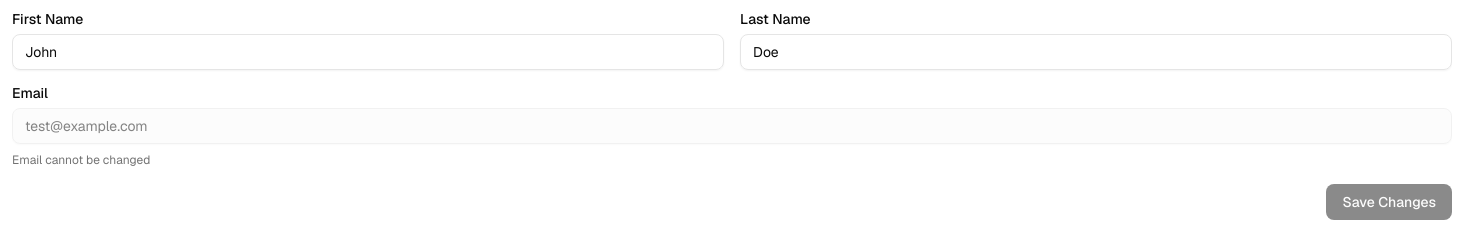
Test case: ProfileForm › enables save when name is changed
Step 1. Replace the text in the field labelled "First Name" with "Jane" → (368, 52), box [12, 34, 724, 70]
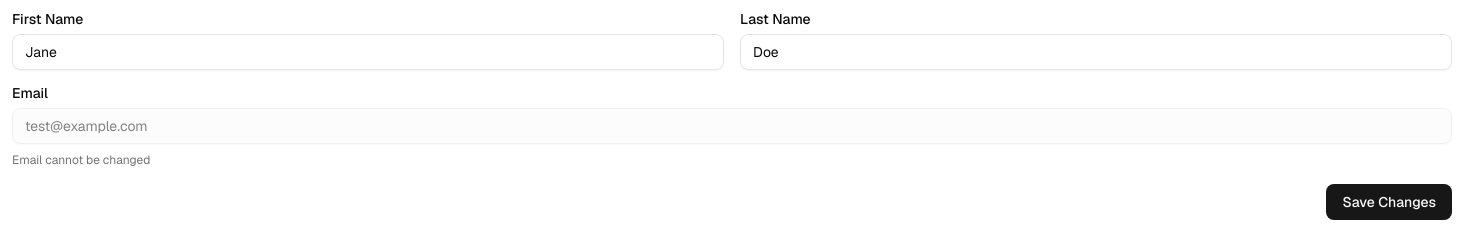
Expected: the button "Save Changes" is enabled, [1326, 184, 1452, 220]
